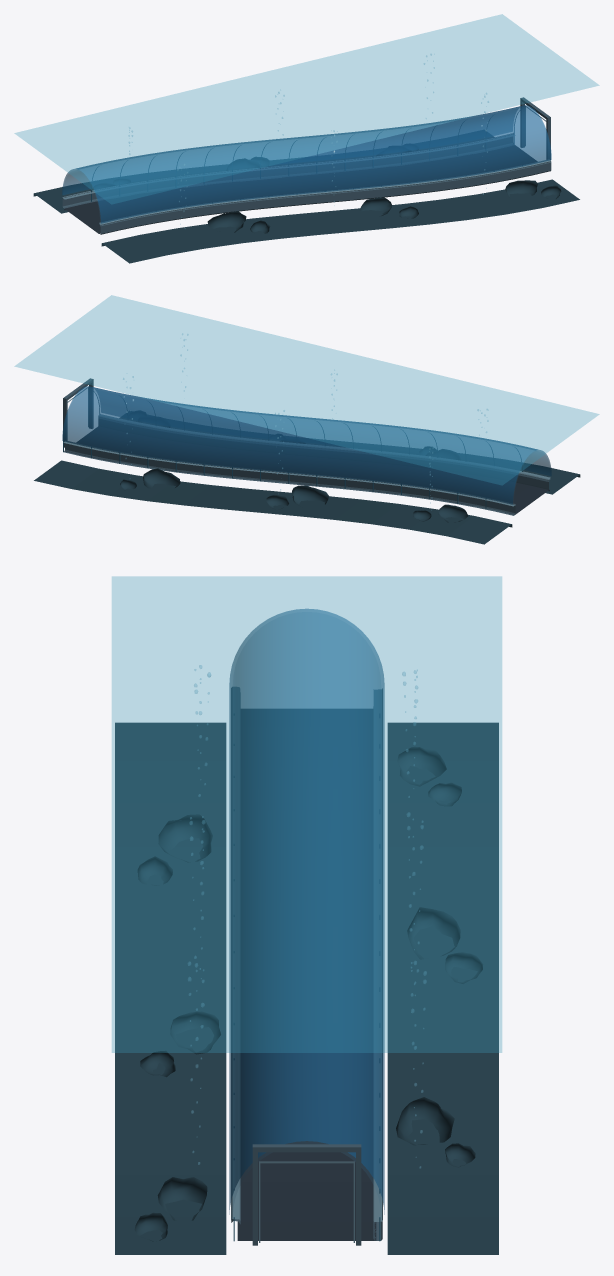
The model's file is aquarium_underwater_arch.glb.
3 views of the same model, one above another, from view 1: azimuth 30°, elevation 25°; view 2: azimuth 150°, elevation 25°; view 3: azimuth 270°, elevation 25° (orthographic). The views are drawn at different scales.
Parts seen in each view (by area): view 1: ArchWaterSurface, TankWaterArch, ArchRock, ArchRail, ArchFloor, ArchTrim, ArchSeam; view 2: ArchWaterSurface, TankWaterArch, ArchRock, ArchRail, ArchFloor, ArchTrim, ArchSeam; view 3: ArchWaterSurface, ArchRock, TankWaterArch, ArchFloor, ArchTrim, ArchRail.
Boxes of the visible parts, box(x1,y1,x2,y2) form: ArchWaterSurface: box(14, 14, 599, 204); TankWaterArch: box(62, 105, 551, 223); ArchRock: box(33, 136, 579, 263); ArchRail: box(62, 97, 551, 234); ArchFloor: box(64, 145, 537, 233); ArchTrim: box(62, 106, 551, 225); ArchSeam: box(91, 111, 550, 211); ArchWaterSurface: box(14, 295, 599, 485); TankWaterArch: box(62, 386, 551, 504); ArchRock: box(34, 417, 580, 544); ArchRail: box(63, 378, 550, 515); ArchFloor: box(64, 426, 549, 514); ArchTrim: box(63, 387, 550, 506); ArchSeam: box(63, 392, 522, 509); ArchWaterSurface: box(112, 576, 501, 1052); ArchRock: box(115, 722, 498, 1254); TankWaterArch: box(229, 609, 384, 1214); ArchFloor: box(237, 709, 376, 1240); ArchTrim: box(231, 687, 382, 1242); ArchRail: box(231, 1144, 382, 1245).
Size of the model in its own units: 52 by 11.56 by 18.
